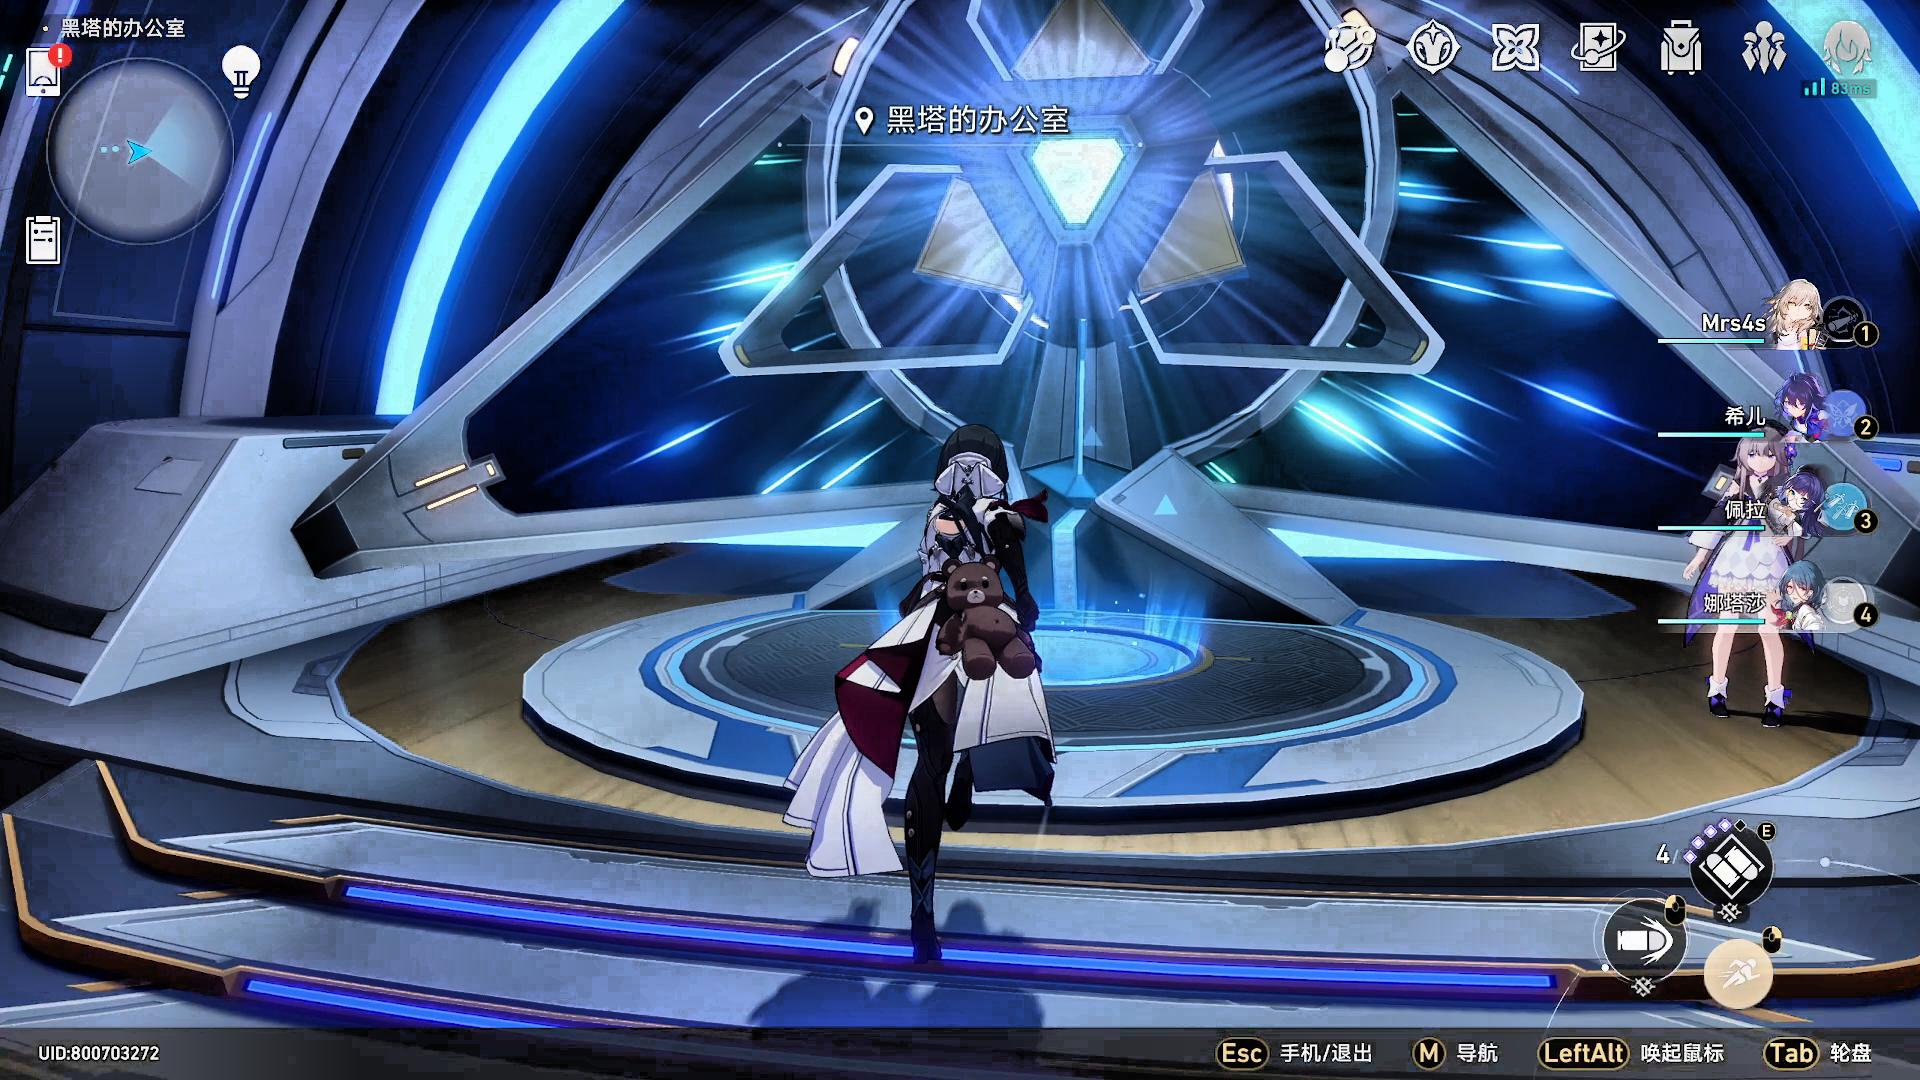Self: (778, 422, 1077, 969)
TeamMate: (1685, 425, 1807, 727)
